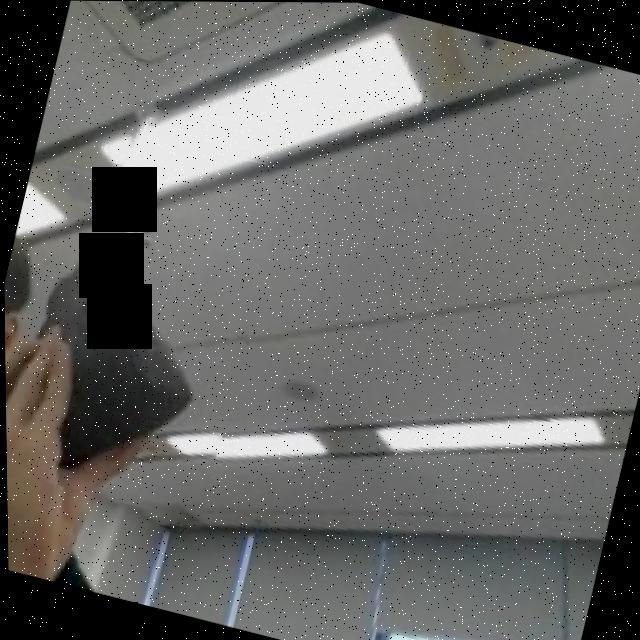shoe: (2, 203, 269, 524)
